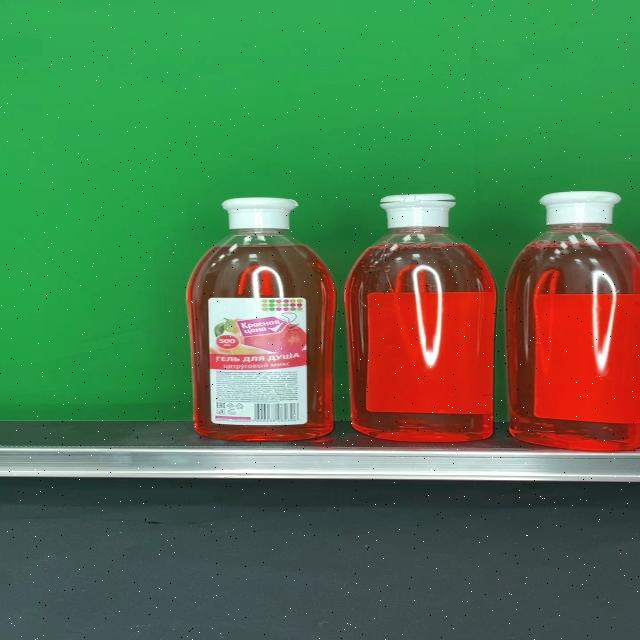Bottle: (345, 193, 497, 442), (186, 197, 336, 441), (506, 190, 640, 451)
Cap: (538, 190, 620, 226), (222, 197, 300, 231), (380, 193, 456, 227)
